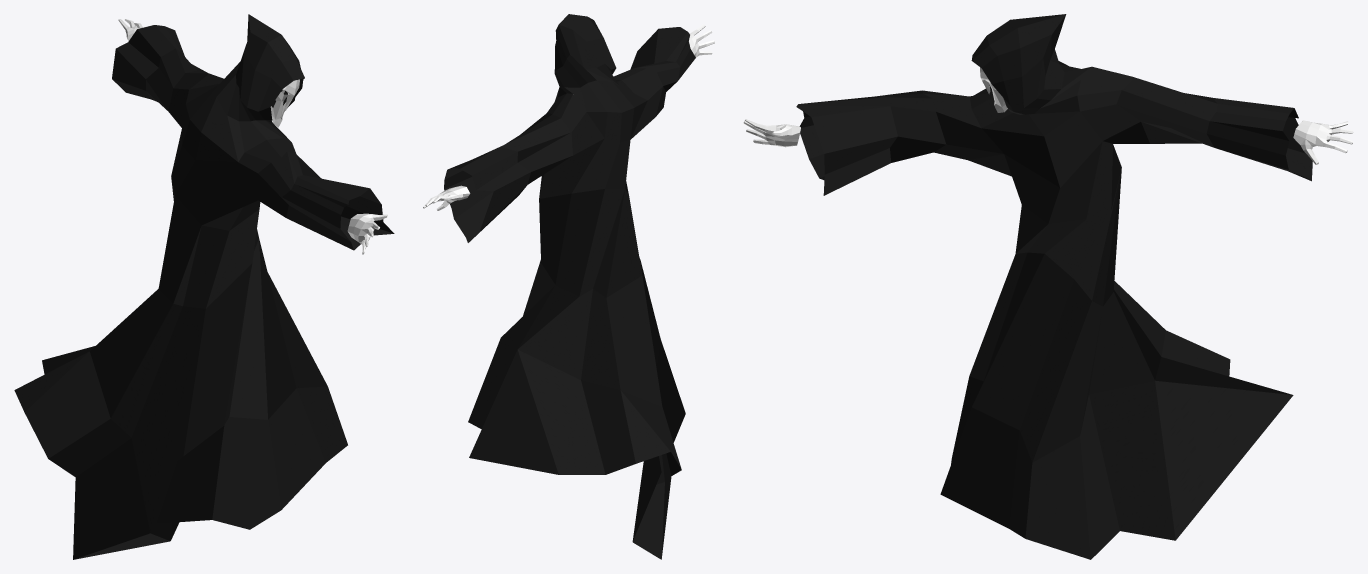
The model's file is ReaperAttack(35).obj.
3 views of the same model, side by side, from view 1: azimuth 30°, elevation 25°; view 2: azimuth 150°, elevation 25°; view 3: azimuth 270°, elevation 25° (orthographic). The views are drawn at different scales.
Visible parts, largest first — view 1: Plane003; view 2: Plane003; view 3: Plane003.
Part boxes in pixels (left/top/right/bottom): Plane003: left=14, top=14, right=394, bottom=559; Plane003: left=423, top=14, right=714, bottom=559; Plane003: left=743, top=14, right=1353, bottom=559.
Size of the model in its own units: 119 by 230 by 217.
